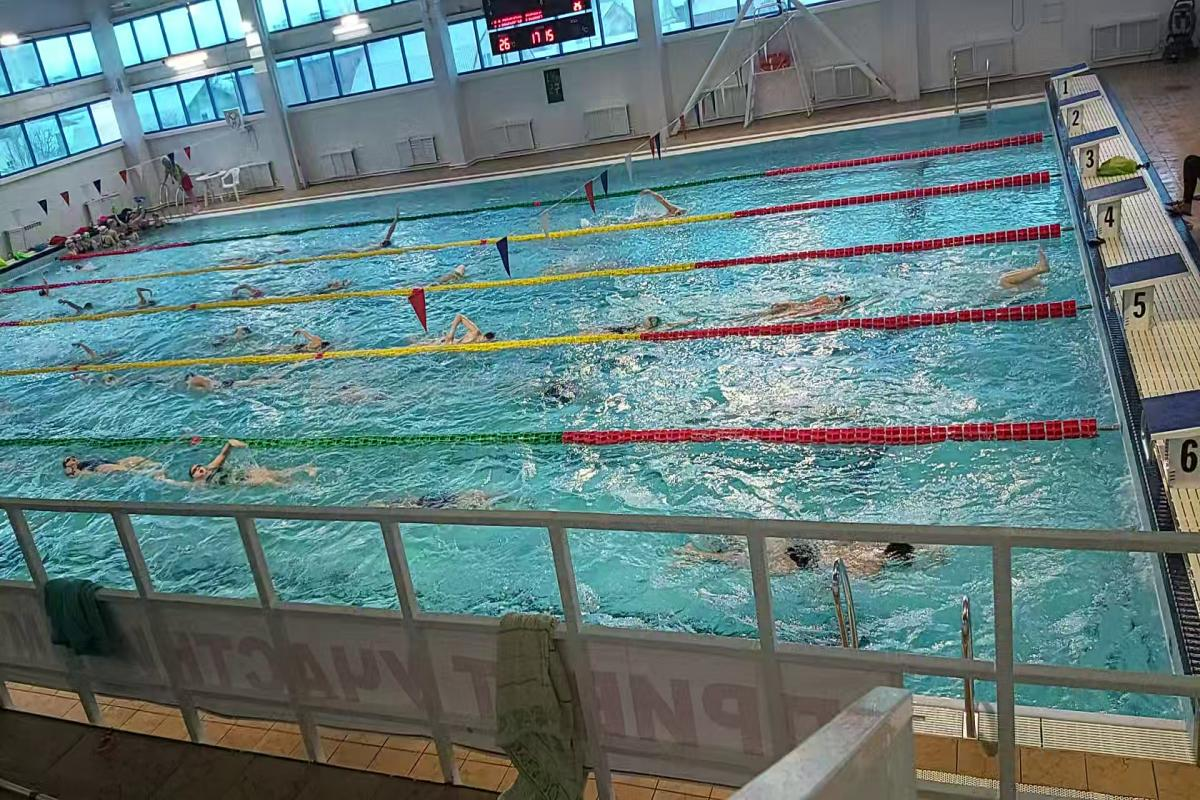swimmer: (674, 533, 933, 584), (173, 445, 313, 491), (48, 447, 164, 488), (759, 278, 863, 318), (387, 474, 518, 505), (175, 364, 284, 398), (516, 365, 590, 410), (590, 301, 702, 329), (319, 374, 400, 411), (429, 312, 501, 344), (280, 322, 337, 357), (632, 185, 694, 216), (371, 212, 411, 250), (419, 265, 476, 287), (57, 294, 109, 318), (66, 340, 120, 363), (225, 276, 271, 302), (309, 274, 358, 298), (226, 318, 258, 342), (132, 284, 159, 309)
